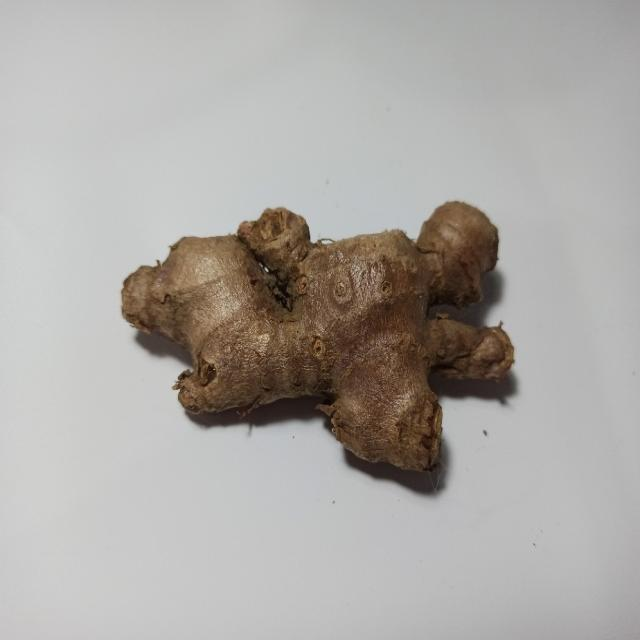ginger: (124, 201, 510, 475)
